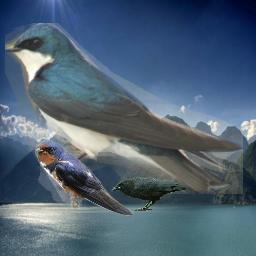Crow: (111, 177, 186, 212)
Swallow: (5, 23, 243, 194), (34, 140, 134, 216)
